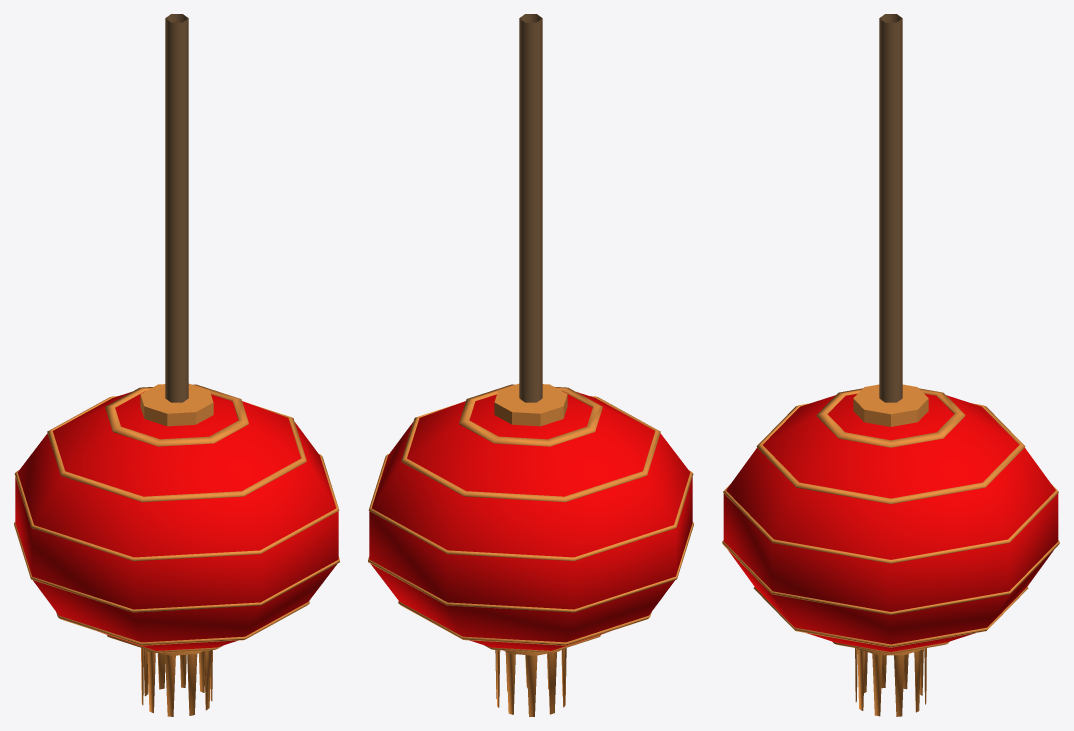
Rendered from Lampion_1.glb.
3 renders of one model, left to right at view 1: azimuth 30°, elevation 25°; view 2: azimuth 150°, elevation 25°; view 3: azimuth 270°, elevation 25°, orthographic.
Visible parts, largest first — view 1: Lampion_1; view 2: Lampion_1; view 3: Lampion_1.
Part boxes in pixels (<box>): Lampion_1: <box>14,14,339,716</box>; Lampion_1: <box>368,14,693,716</box>; Lampion_1: <box>722,14,1059,716</box>.
Size of the model in its own units: 0.2708 by 0.6057 by 0.2708.
